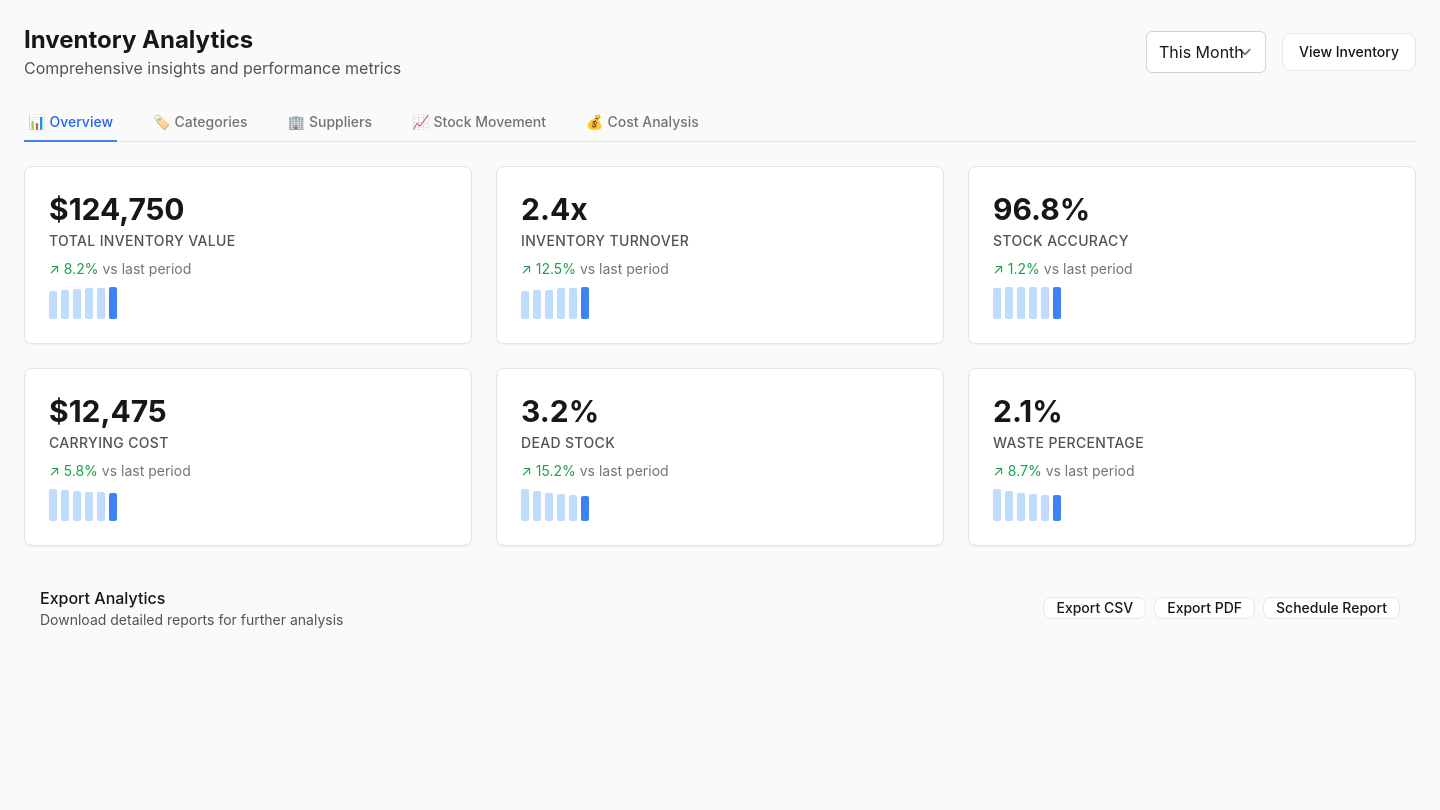
Test case: Inventory Analytics Tests › Suppliers Tab › should switch to suppliers view
The image size is (1440, 810).
Step 1. Click the button "🏢Suppliers" → (330, 123), box [284,104,376,142]
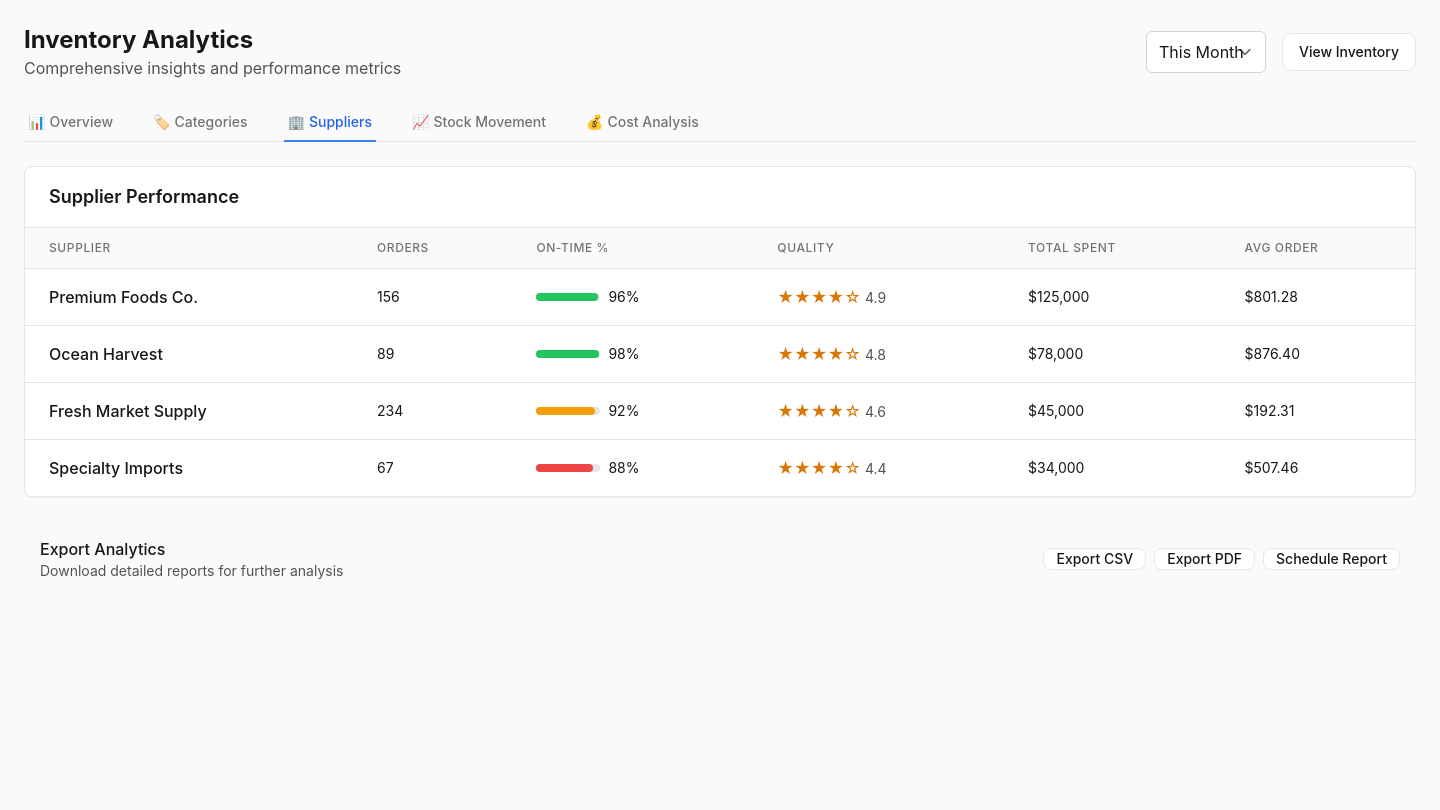
Expected: the heading "Supplier Performance" is shown, [49,186,239,207]
